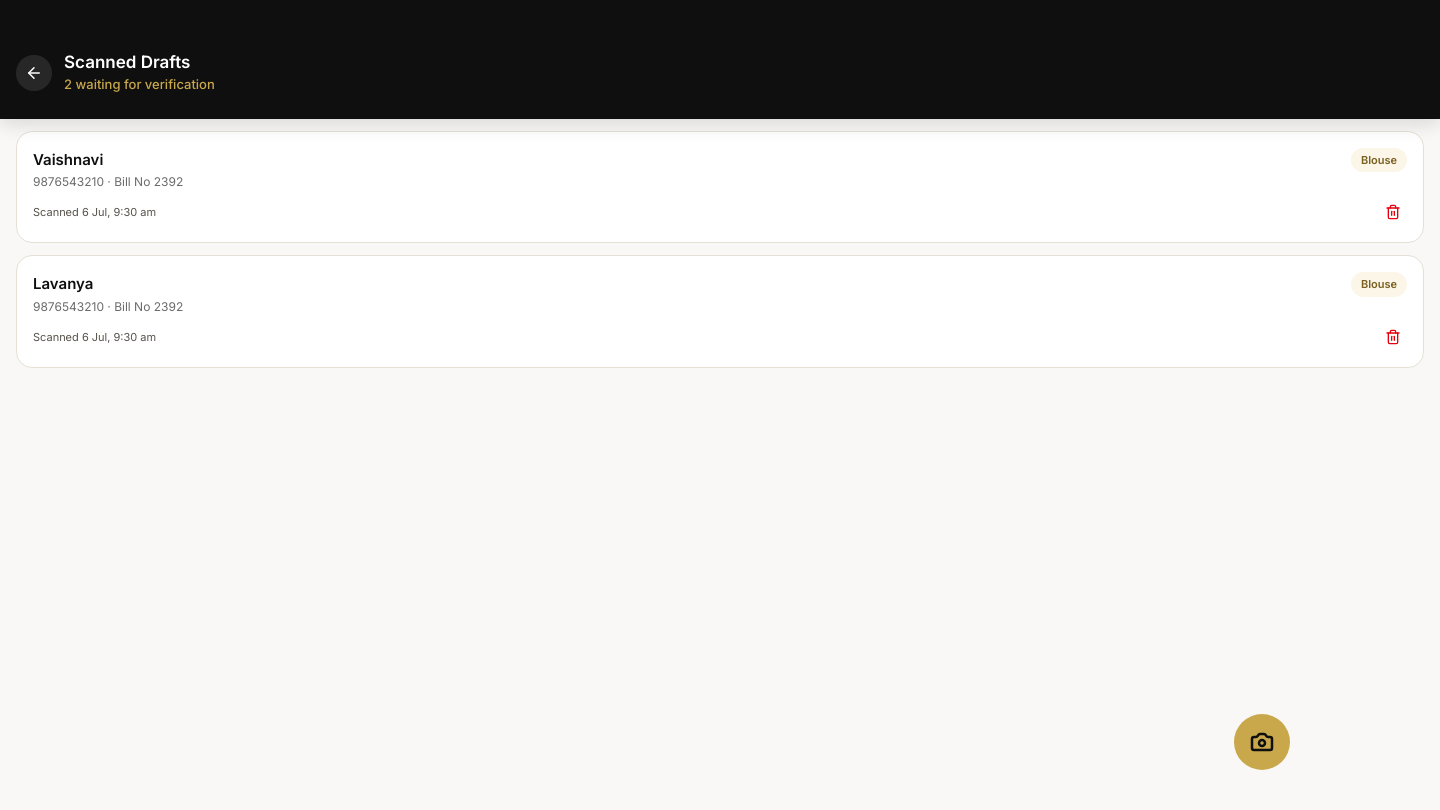
Test: DraftsBody › ignores a second discard while one is already in flight
Click the button named "Discard draft for Vaishnavi": (1393, 212) x1=1379 y1=198 x2=1407 y2=226
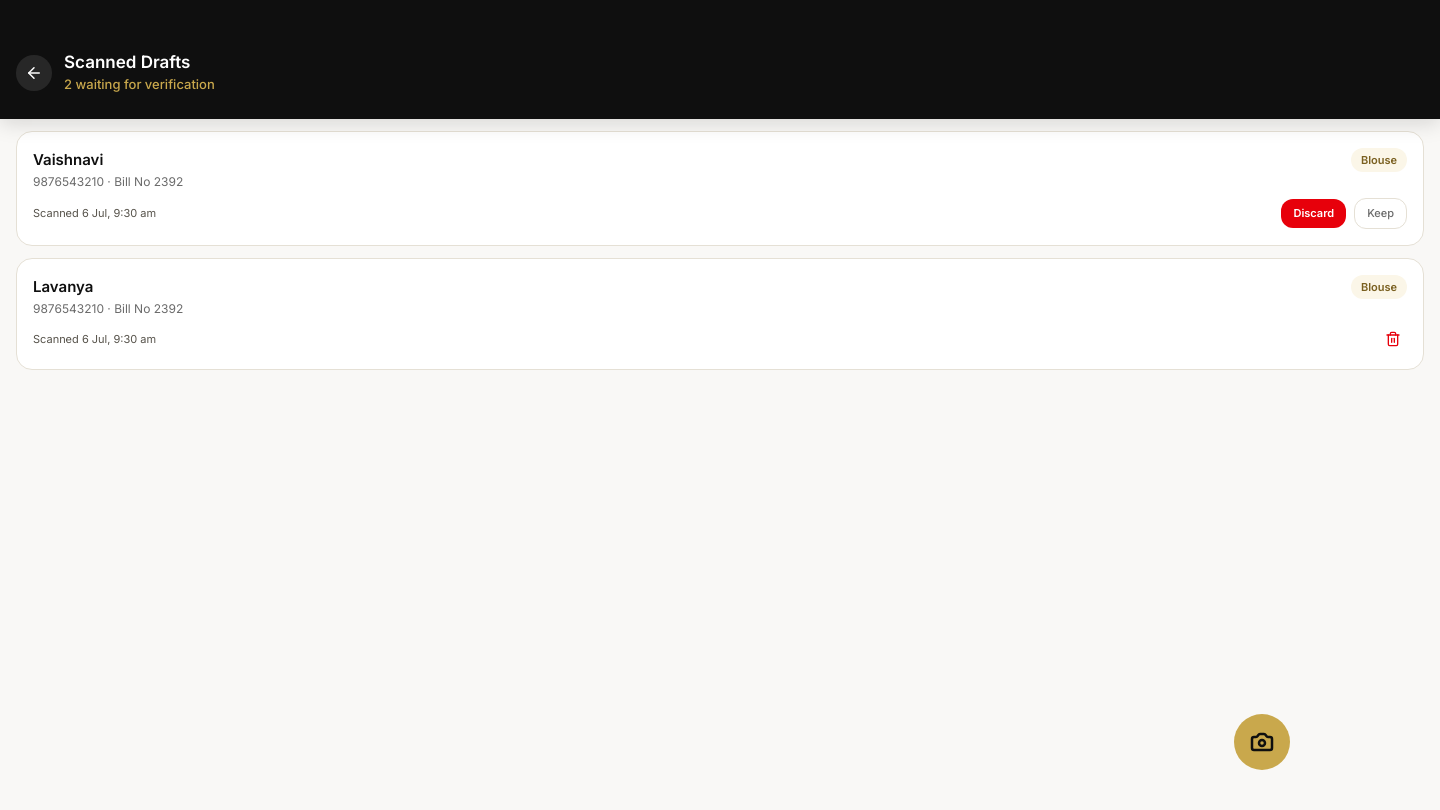
Click the button "Discard": (1314, 214) x1=1282 y1=199 x2=1346 y2=228
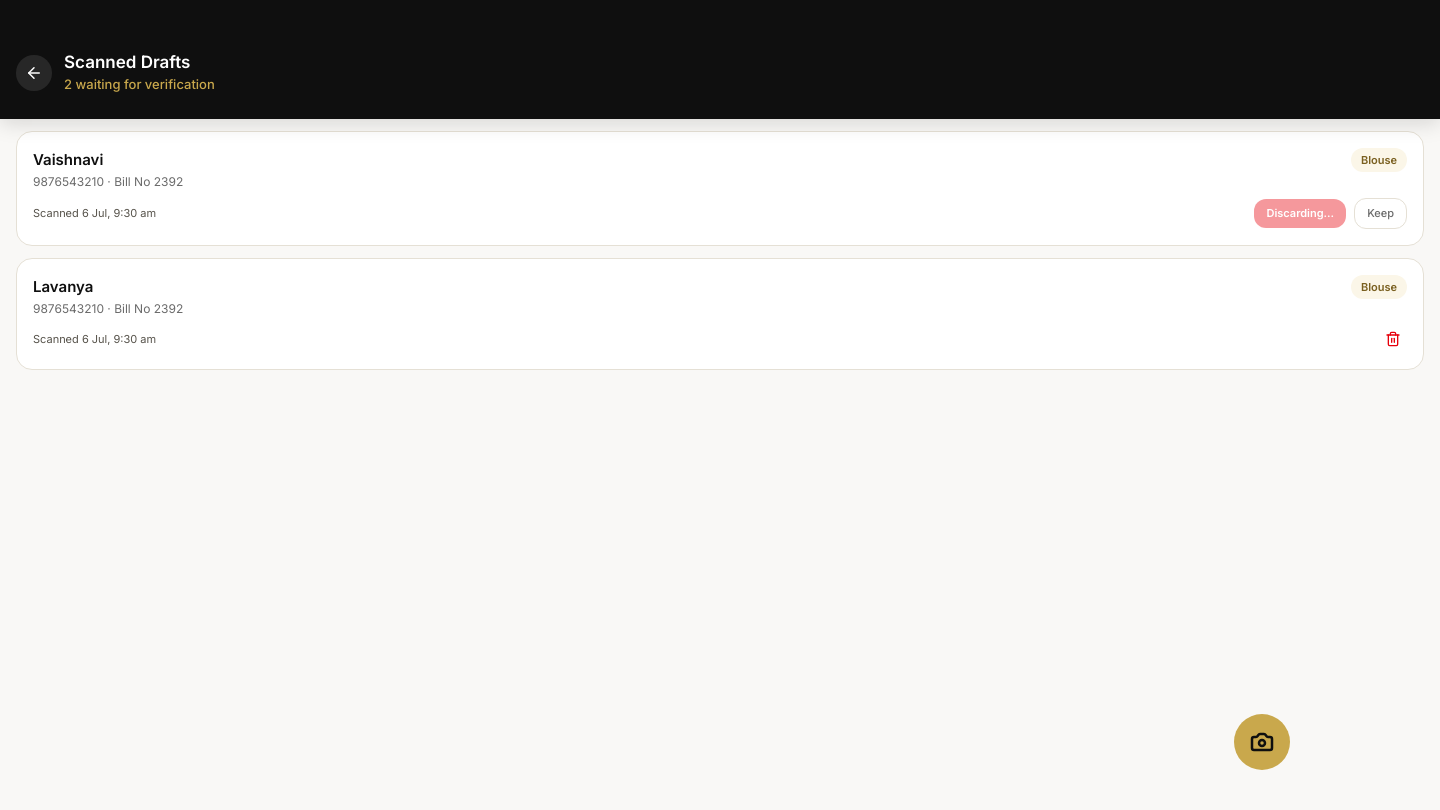
// First discard still pending — confirming the second card must no-op.
Click the button named "Discard draft for Lavanya": (1393, 339) x1=1379 y1=325 x2=1407 y2=353
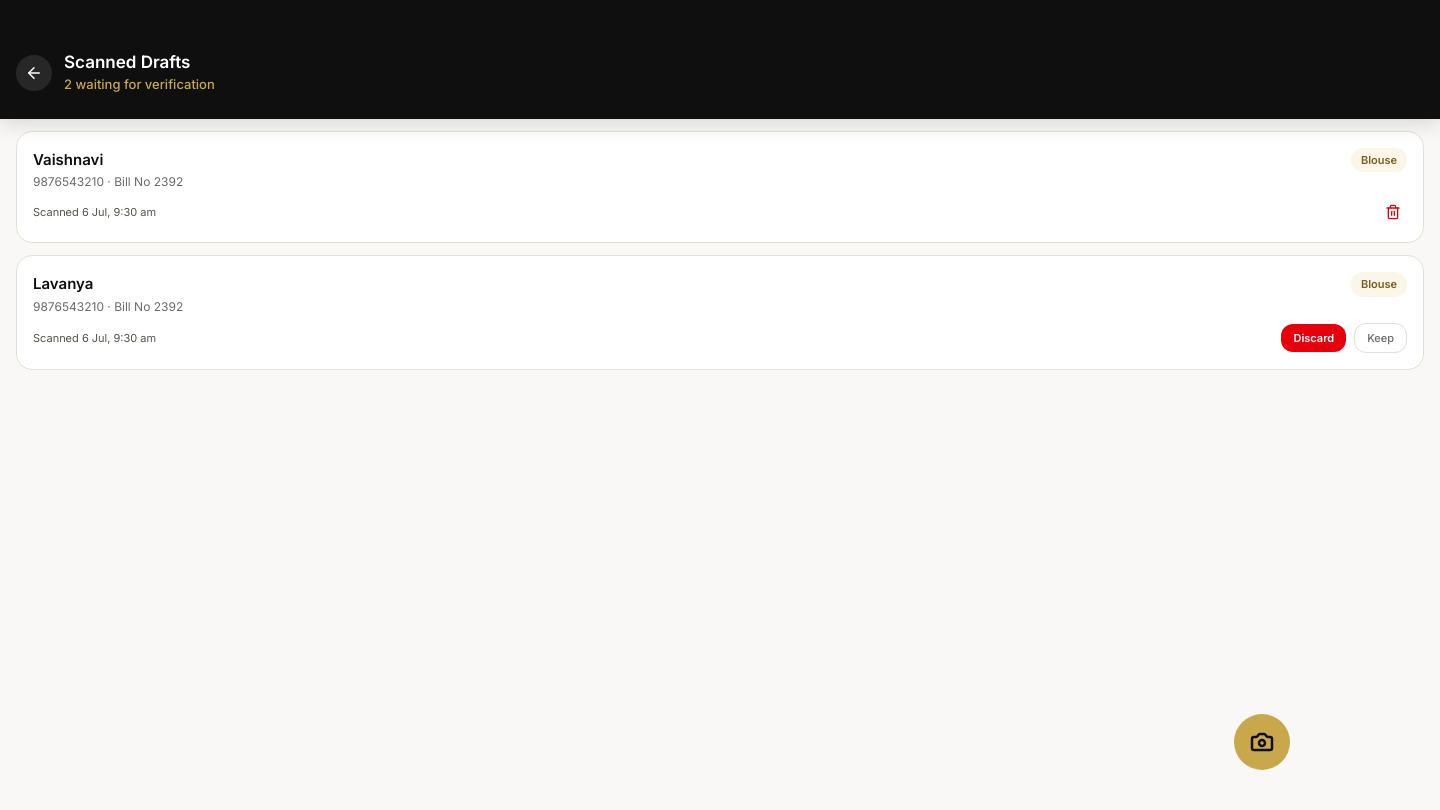
Click the button "Discard": (1314, 338) x1=1282 y1=324 x2=1346 y2=352
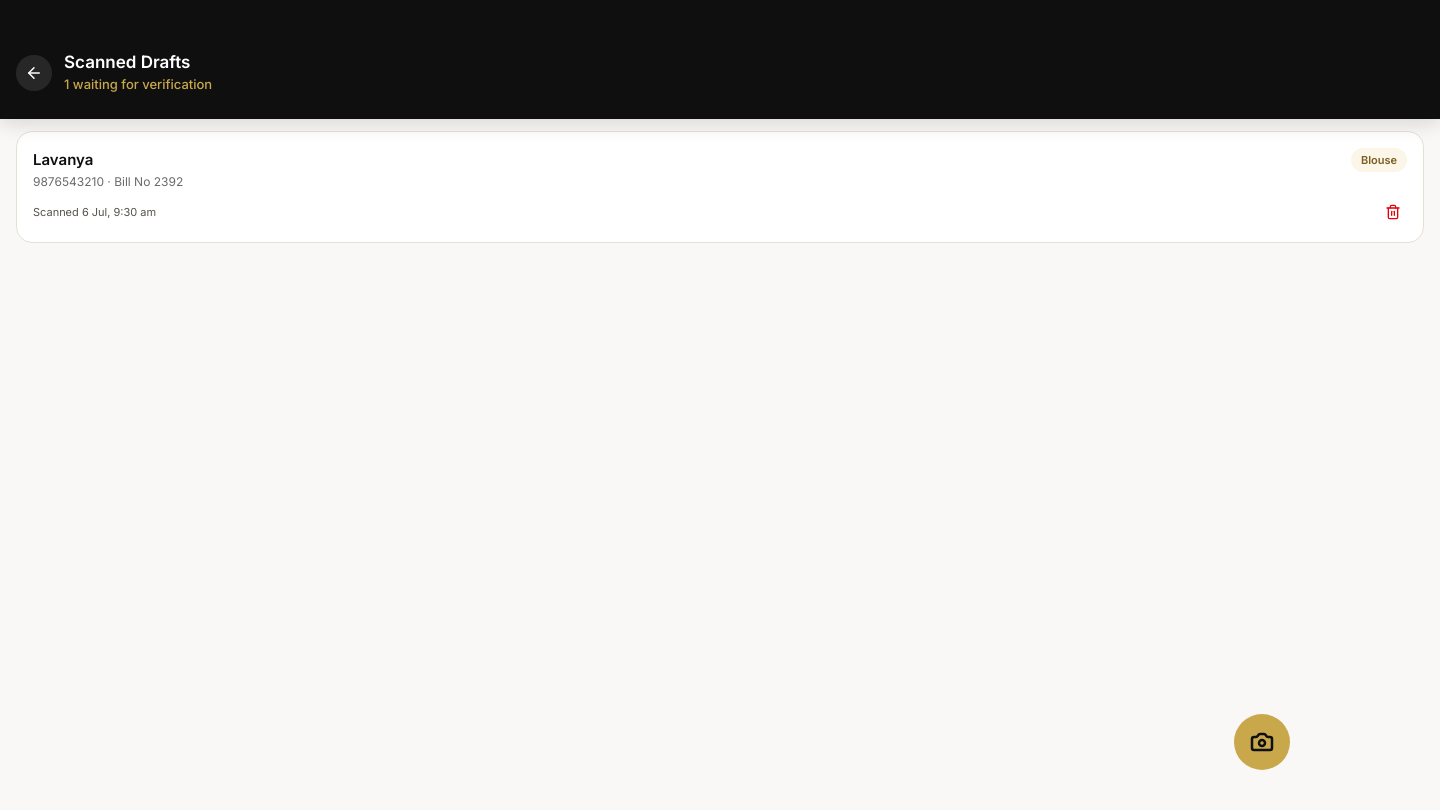
Expected: the text "Lavanya" is shown, x1=33 y1=149 x2=93 y2=171
Now the button "Vaishnavi" is gone
